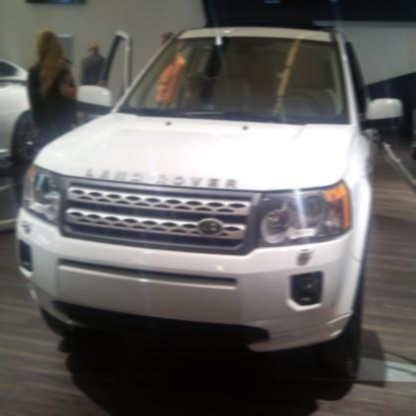Vehicle: (12, 22, 402, 383)
